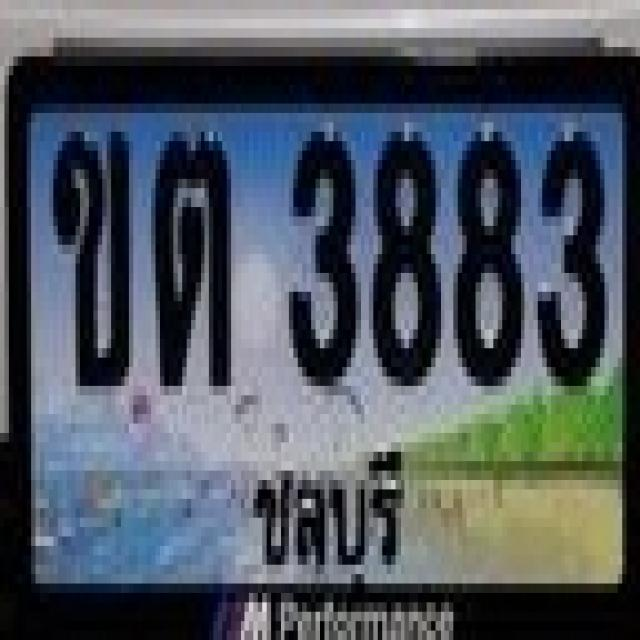license_plate: (4, 56, 640, 640)
